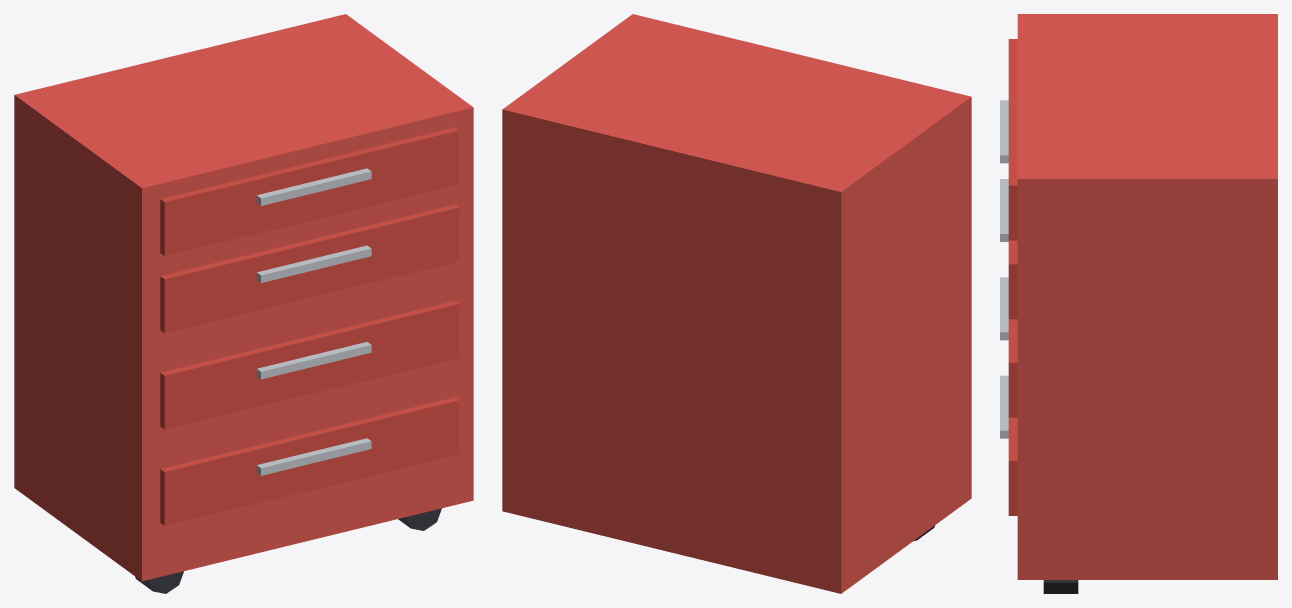
The model's file is workshop_chest.glb.
The picture shows the model from 3 angles, left to right: view 1: azimuth 30°, elevation 25°; view 2: azimuth 150°, elevation 25°; view 3: azimuth 270°, elevation 25°; orthographic projection. The views are drawn at different scales.
Parts seen in each view (by area): view 1: workshop_chest; view 2: workshop_chest; view 3: workshop_chest.
Part boxes in pixels (left/top/right/bottom): workshop_chest: left=14, top=14, right=473, bottom=593; workshop_chest: left=502, top=14, right=971, bottom=593; workshop_chest: left=1000, top=14, right=1277, bottom=593.
Size of the model in its own units: 0.9 by 1.1 by 0.64.
